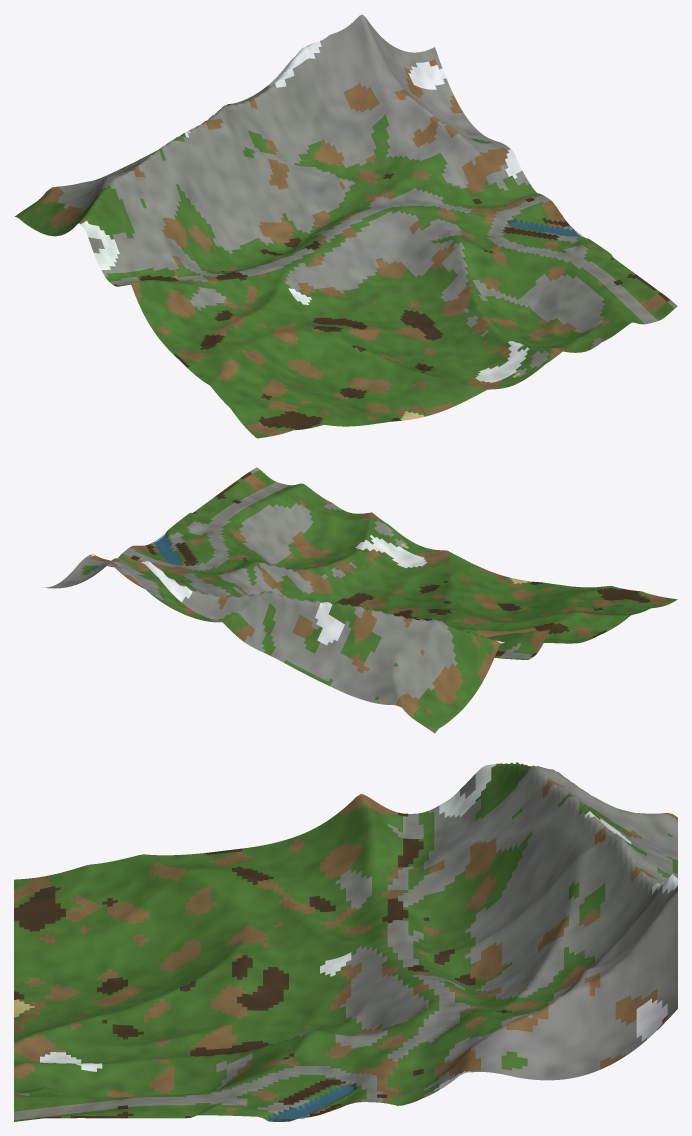
The model's file is chunk_3_2.glb.
The picture shows the model from 3 angles, top to bottom: view 1: azimuth 30°, elevation 25°; view 2: azimuth 150°, elevation 25°; view 3: azimuth 270°, elevation 25°; orthographic projection. The views are drawn at different scales.
Parts seen in each view (by area): view 1: Surface_Grass, Surface_Gravel, Surface_Dirt, Surface_Mud, Surface_Snow; view 2: Surface_Grass, Surface_Gravel, Surface_Dirt, Surface_Mud, Surface_Snow, Water; view 3: Surface_Grass, Surface_Gravel, Surface_Dirt, Surface_Mud, Surface_Snow, Surface_Water, Water.
Boxes of the visible parts, x1,y1,x2,y2 form: Surface_Grass: [16, 104, 674, 438]; Surface_Gravel: [57, 14, 677, 377]; Surface_Dirt: [14, 59, 666, 436]; Surface_Mud: [113, 173, 669, 429]; Surface_Snow: [81, 41, 528, 382]; Surface_Grass: [81, 470, 677, 730]; Surface_Gravel: [44, 467, 532, 705]; Surface_Dirt: [90, 474, 669, 733]; Surface_Mud: [130, 472, 651, 656]; Surface_Snow: [90, 535, 504, 645]; Water: [153, 534, 182, 565]; Surface_Grass: [14, 762, 677, 1121]; Surface_Gravel: [14, 765, 677, 1120]; Surface_Dirt: [14, 763, 677, 1119]; Surface_Mud: [14, 812, 511, 1118]; Surface_Snow: [40, 764, 677, 1090]; Surface_Water: [268, 1083, 356, 1121]; Water: [263, 1086, 353, 1118].
Bounding box in the file's own units: 256 × 105 × 256.
